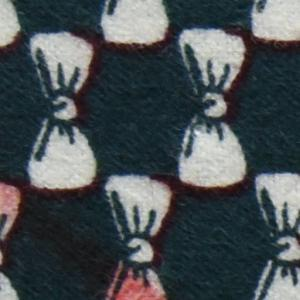Stain: (1, 174, 171, 300)
